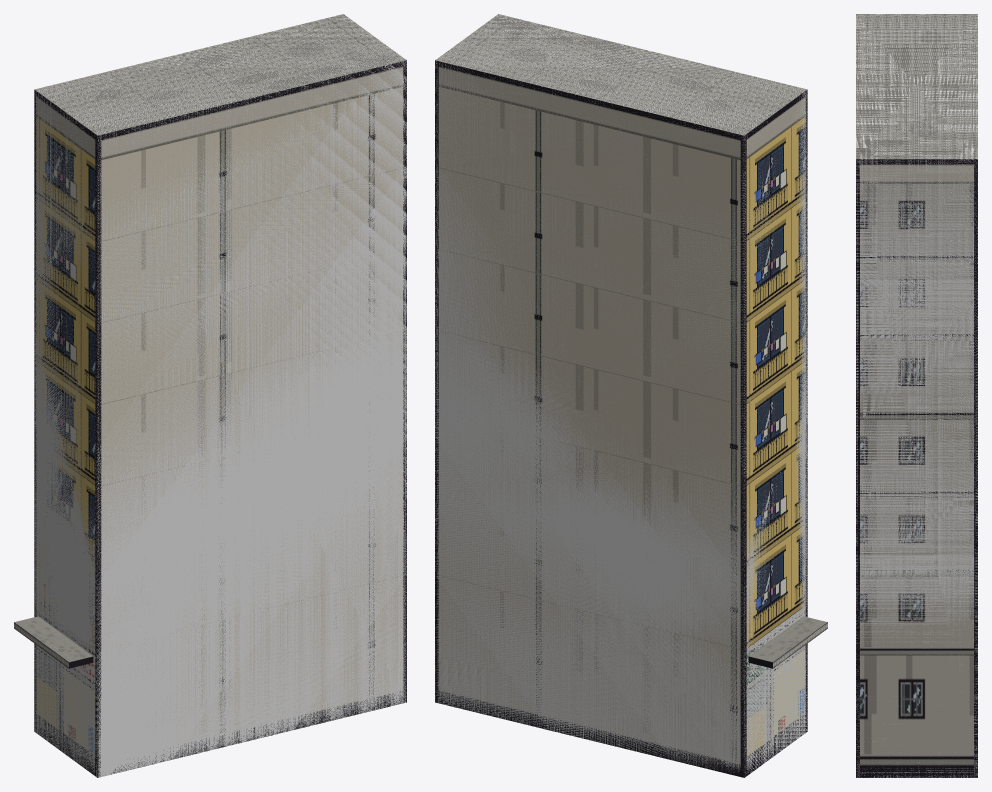
3 views of the same model, side by side, from view 1: azimuth 30°, elevation 25°; view 2: azimuth 150°, elevation 25°; view 3: azimuth 270°, elevation 25° (orthographic). The views are drawn at different scales.
Parts seen in each view (by area): view 1: COL_19D-W03_0, 19D-W03; view 2: 19D-W03, COL_19D-W03_0; view 3: 19D-W03, COL_19D-W03_0.
Boxes of the visible parts, <box> form: COL_19D-W03_0: <box>34,15,406,777</box>; 19D-W03: <box>14,14,406,777</box>; 19D-W03: <box>435,14,827,777</box>; COL_19D-W03_0: <box>435,15,807,777</box>; 19D-W03: <box>856,14,977,777</box>; COL_19D-W03_0: <box>856,14,977,777</box>.
Bounding box in the file's own units: 13.7 × 25.2 × 4.5.
1 material, 1 textured.
